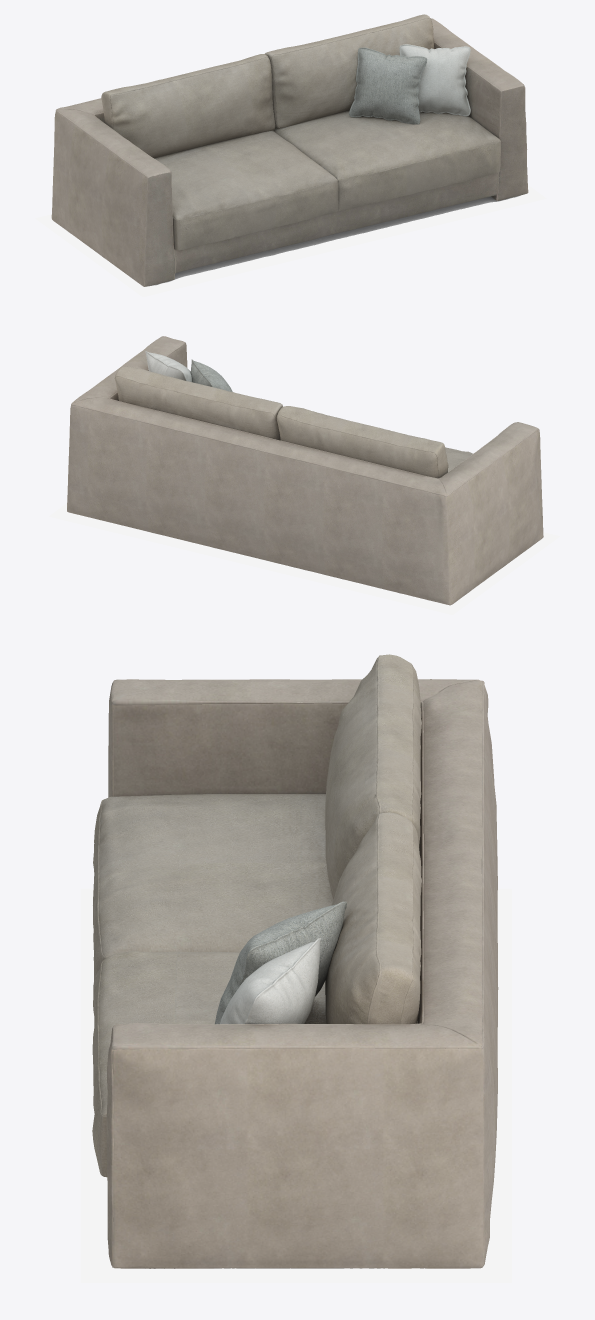
File: obj_max_sofa_unity_b1155b.glb
3 renders of one model, top to bottom at view 1: azimuth 30°, elevation 25°; view 2: azimuth 150°, elevation 25°; view 3: azimuth 270°, elevation 25°, orthographic. The views are drawn at different scales.
Parts seen in each view (by area): view 1: obj_max_sofa_unity_b1155b; view 2: obj_max_sofa_unity_b1155b; view 3: obj_max_sofa_unity_b1155b.
Part boxes in pixels (box(x1,y1,x2,y2)): obj_max_sofa_unity_b1155b: box(35, 14, 546, 296); obj_max_sofa_unity_b1155b: box(49, 336, 559, 614); obj_max_sofa_unity_b1155b: box(80, 654, 511, 1282).
Bounding box in the file's own units: 2.1 × 0.6338 × 1.08.
7 materials, 6 textured.
